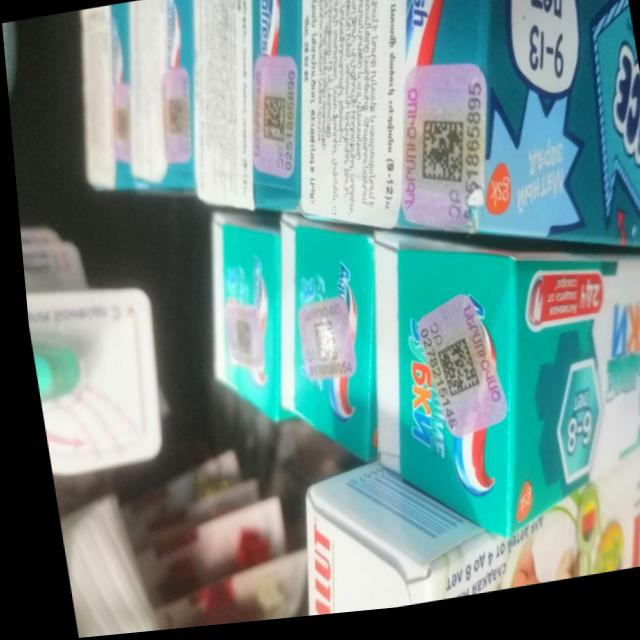datamatrix: (407, 121, 469, 199), (427, 343, 475, 407), (254, 96, 289, 150)
